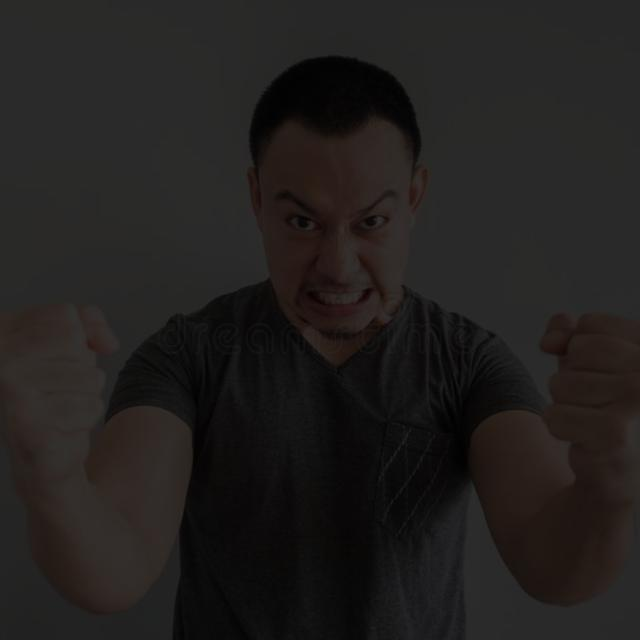Angry: (163, 59, 464, 379)
